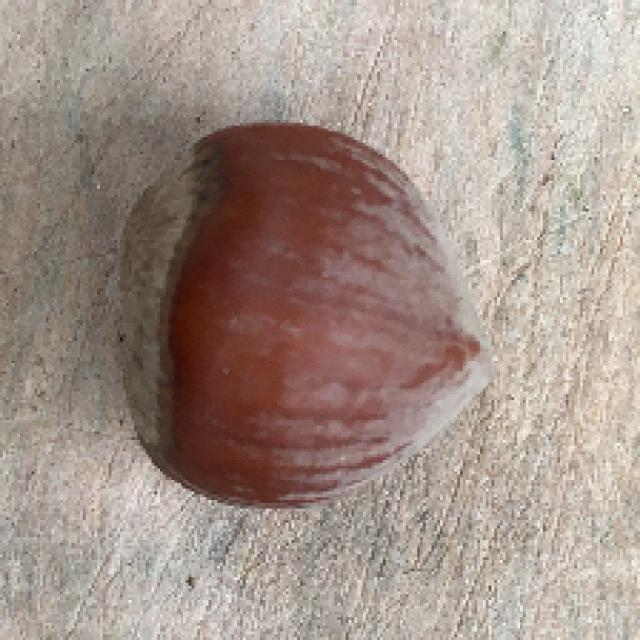QualityHazelnut: (107, 116, 495, 508)
